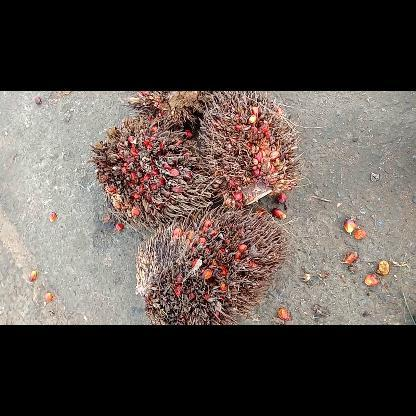Terlalu masak: (132, 204, 292, 324), (86, 112, 222, 235), (194, 90, 308, 212), (124, 91, 220, 141)
